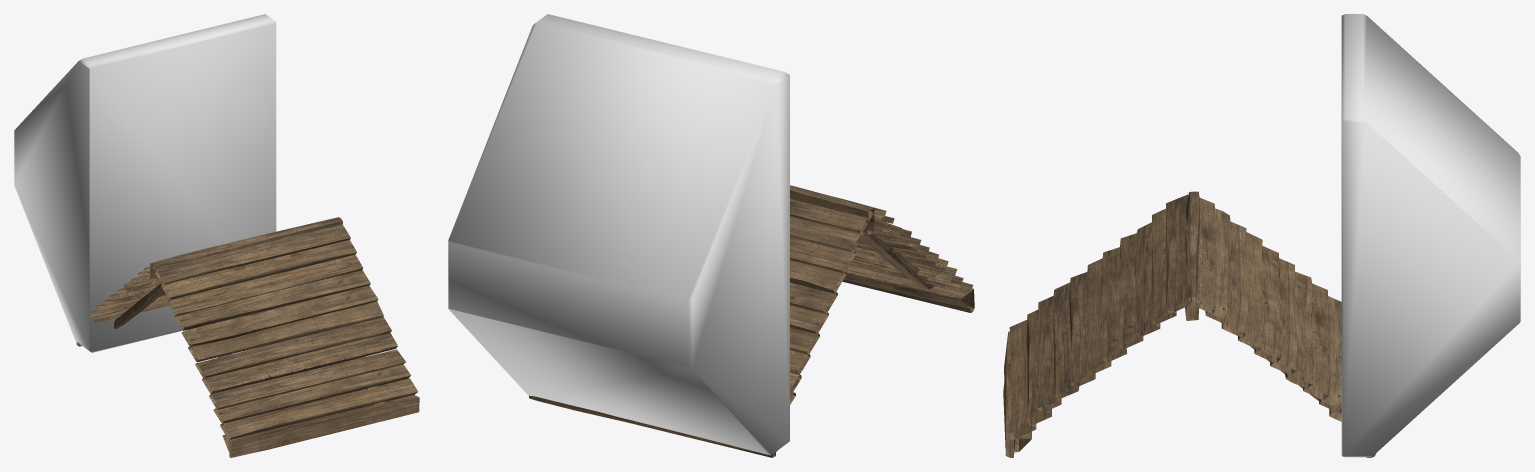
File: SM_Roof_Small_B.fbx
The picture shows the model from 3 angles, left to right: view 1: azimuth 30°, elevation 25°; view 2: azimuth 150°, elevation 25°; view 3: azimuth 270°, elevation 25°; orthographic projection. The views are drawn at different scales.
Parts seen in each view (by area): view 1: SM_Roof_Small_B_ConvexHulls, SM_Roof_Small_B; view 2: SM_Roof_Small_B_ConvexHulls, SM_Roof_Small_B; view 3: SM_Roof_Small_B_ConvexHulls, SM_Roof_Small_B.
Boxes of the visible parts, left/top/right/bottom form: SM_Roof_Small_B_ConvexHulls: left=14, top=14, right=276, bottom=352; SM_Roof_Small_B: left=76, top=217, right=419, bottom=457; SM_Roof_Small_B_ConvexHulls: left=448, top=14, right=789, bottom=455; SM_Roof_Small_B: left=529, top=185, right=974, bottom=457; SM_Roof_Small_B_ConvexHulls: left=1341, top=14, right=1520, bottom=457; SM_Roof_Small_B: left=1003, top=191, right=1375, bottom=457.
Bounding box in the file's own units: 4.5 × 6.62 × 9.17.
